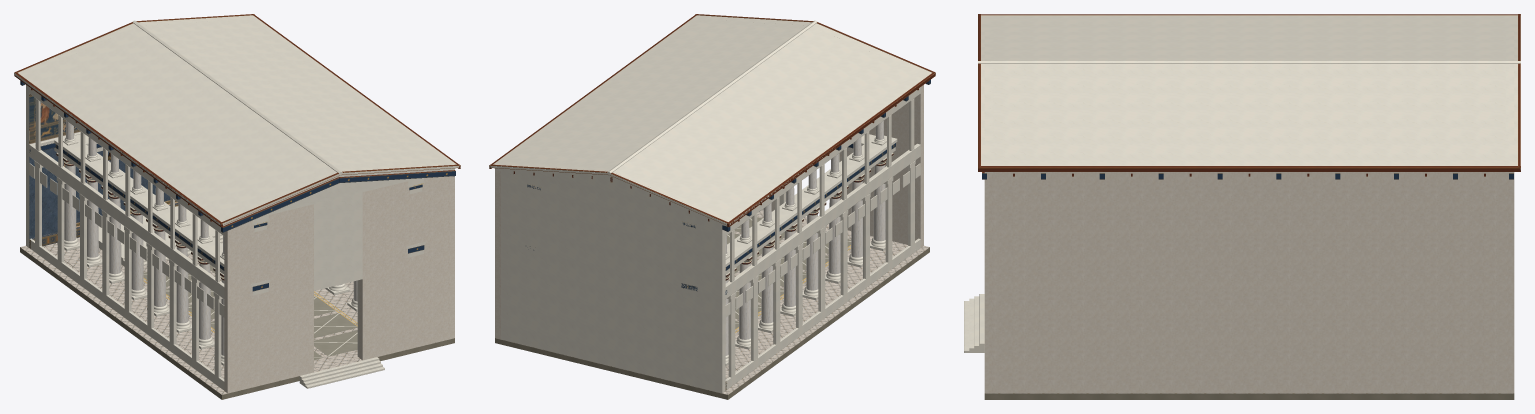
File: sanctuary-scene.glb
3 views of the same model, side by side, from view 1: azimuth 30°, elevation 25°; view 2: azimuth 150°, elevation 25°; view 3: azimuth 270°, elevation 25° (orthographic). The views are drawn at different scales.
Parts seen in each view (by area): view 1: ARCH_Roof_Pitch_L, ARCH_Roof_Pitch_R, ARCH_Entry_Wall_L, ARCH_Entry_Wall_R, Bay_Pilaster (×9), ARCH_MODULE_Column_9m_Shaft (×7), ARCH_Entry_Header, ARCH_Wall_L_Belt, ARCH_Gable_Front, ARCH_L_Cornice, ARCH_Wall_L_Dado, WEAPON_WALL_TEXTURE_PANEL (+14 smaller); view 2: ARCH_Wall_Rear, ARCH_Roof_Pitch_L, ARCH_Roof_Pitch_R, Bay_Pilaster (×9), ARCH_MODULE_Column_9m_Shaft (×7), ARCH_Entry_Wall_L, ARCH_Gable_Rear, ARCH_Wall_L_Belt, ARCH_Floor_Slab_24x36, ARCH_L_Cornice, ARCH_Wall_L_Dado, ARCH_Roof_EaveFascia_L (+7 smaller); view 3: ARCH_Wall_R, ARCH_Roof_Pitch_R, ARCH_Roof_Pitch_L, ARCH_Floor_Slab_24x36, ARCH_Roof_EaveFascia_R, ARCH_Roof_RidgeCap, ARCH_Gable_Front, ARCH_Gable_Rear, ARCH_Roof_EaveFascia_L.
Part boxes in pixels (<box>): ARCH_Roof_Pitch_L: <box>14,23,340,225</box>; ARCH_Roof_Pitch_R: <box>138,15,460,174</box>; ARCH_Entry_Wall_L: <box>224,204,313,393</box>; ARCH_Entry_Wall_R: <box>359,176,448,360</box>; Bay_Pilaster (×9): <box>35,165,221,377</box>; ARCH_MODULE_Column_9m_Shaft (×7): <box>64,165,210,339</box>; ARCH_Entry_Header: <box>314,192,362,290</box>; ARCH_Wall_L_Belt: <box>29,145,224,298</box>; ARCH_Gable_Front: <box>223,163,454,226</box>; ARCH_L_Cornice: <box>53,135,270,286</box>; ARCH_Wall_L_Dado: <box>29,238,224,390</box>; WEAPON_WALL_TEXTURE_PANEL: <box>29,148,177,238</box>; ARCH_Wall_Rear: <box>501,171,725,393</box>; ARCH_Roof_Pitch_L: <box>609,23,935,225</box>; ARCH_Roof_Pitch_R: <box>489,15,811,174</box>; Bay_Pilaster (×9): <box>728,165,914,377</box>; ARCH_MODULE_Column_9m_Shaft (×7): <box>739,165,885,339</box>; ARCH_Entry_Wall_L: <box>839,85,923,247</box>; ARCH_Gable_Rear: <box>495,163,726,226</box>; ARCH_Wall_L_Belt: <box>725,143,920,298</box>; ARCH_Floor_Slab_24x36: <box>495,247,929,399</box>; ARCH_L_Cornice: <box>680,135,897,286</box>; ARCH_Wall_L_Dado: <box>725,238,920,389</box>; ARCH_Roof_EaveFascia_L: <box>727,72,935,226</box>; ARCH_Wall_R: <box>984,172,1514,393</box>; ARCH_Roof_Pitch_R: <box>981,64,1520,169</box>; ARCH_Roof_Pitch_L: <box>981,15,1520,60</box>; ARCH_Floor_Slab_24x36: <box>984,393,1514,399</box>; ARCH_Roof_EaveFascia_R: <box>978,166,1520,171</box>; ARCH_Roof_RidgeCap: <box>978,61,1520,63</box>; ARCH_Gable_Front: <box>984,30,993,172</box>; ARCH_Gable_Rear: <box>1505,30,1514,172</box>; ARCH_Roof_EaveFascia_L: <box>981,14,1520,15</box>.
Bounding box in the file's own units: 24.7 × 20.04 × 37.85.
Materials: 17 (16 with a texture image).
